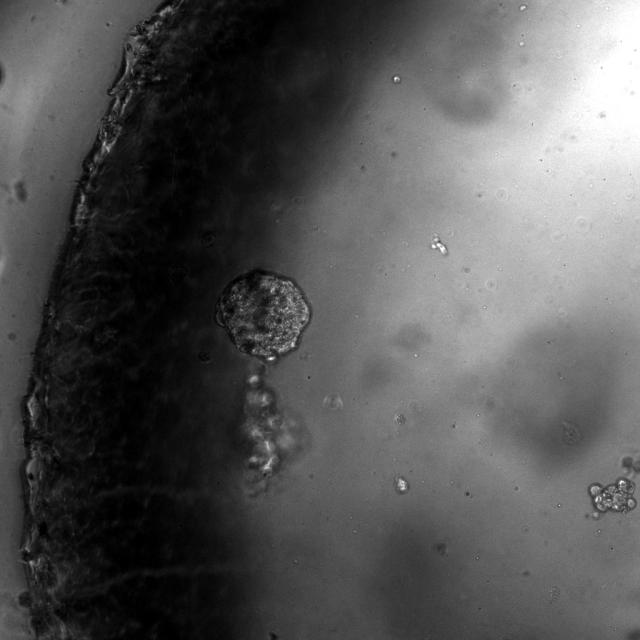organoid: (216, 269, 310, 359), (240, 360, 303, 494), (588, 477, 637, 519), (394, 475, 409, 494)
